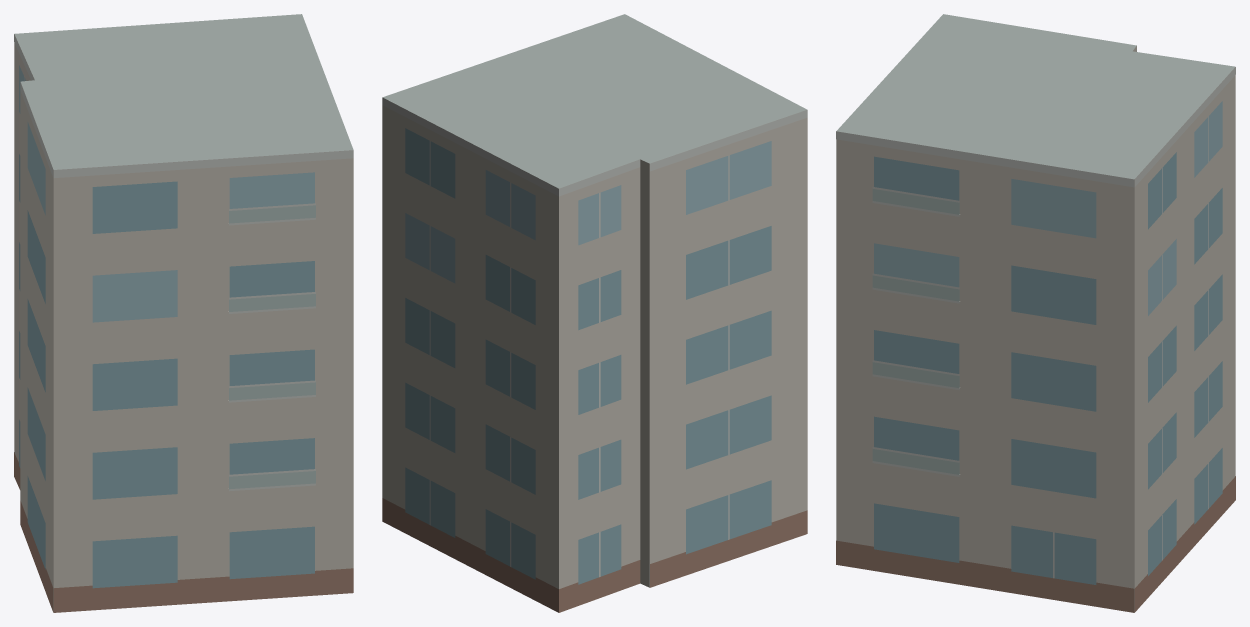
File: survey-upis-32528823.glb
3 views of the same model, side by side, from view 1: azimuth 30°, elevation 25°; view 2: azimuth 150°, elevation 25°; view 3: azimuth 270°, elevation 25° (orthographic). The views are drawn at different scales.
Visible parts, largest first — view 1: survey-upis-32528823.tmp; view 2: survey-upis-32528823.tmp; view 3: survey-upis-32528823.tmp.
Boxes of the visible parts, left/top/right/bottom form: survey-upis-32528823.tmp: left=14, top=14, right=353, bottom=612; survey-upis-32528823.tmp: left=382, top=14, right=807, bottom=612; survey-upis-32528823.tmp: left=836, top=14, right=1235, bottom=612.
Bounding box in the file's own units: 10.81 × 13.2 × 11.04.
